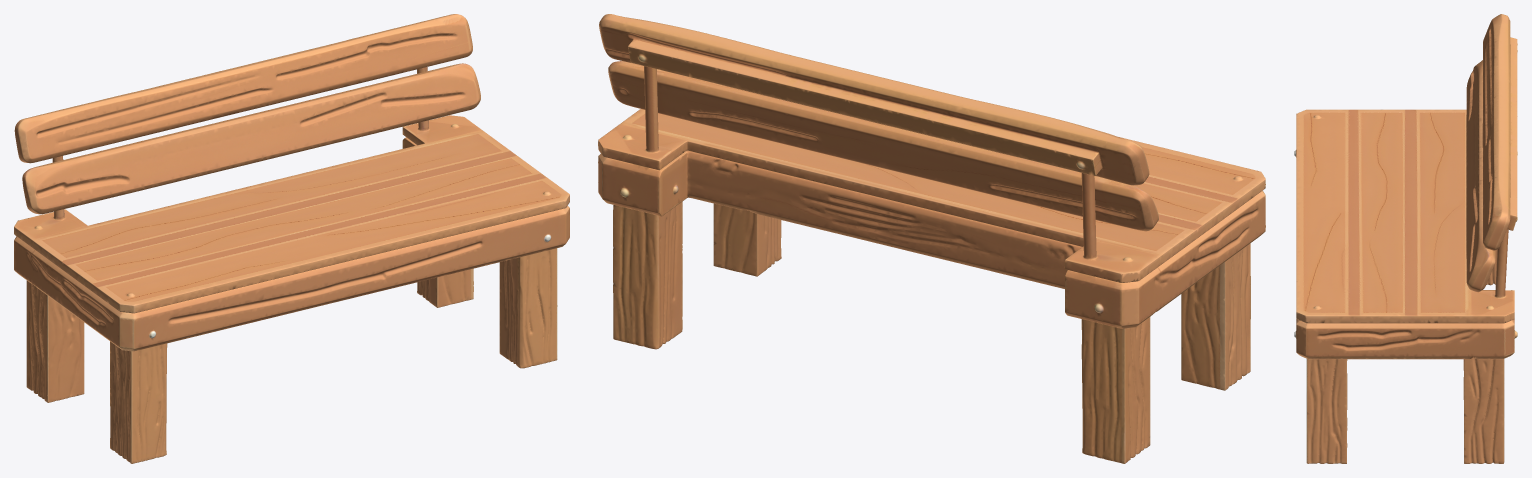
Rendered from Model_Bench.glb.
3 renders of one model, left to right at view 1: azimuth 30°, elevation 25°; view 2: azimuth 150°, elevation 25°; view 3: azimuth 270°, elevation 25°, orthographic. The views are drawn at different scales.
Size of the model in its own units: 1.9 by 1.09 by 0.8693.
1 material, 1 textured.
